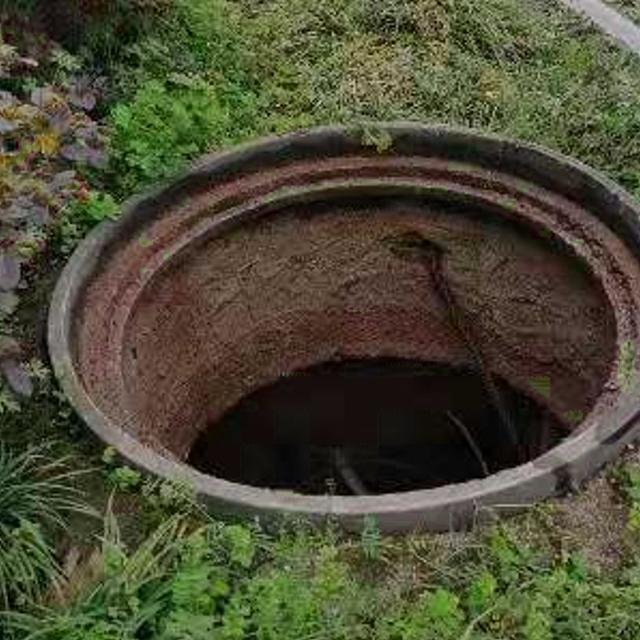lose: (42, 100, 640, 523)
